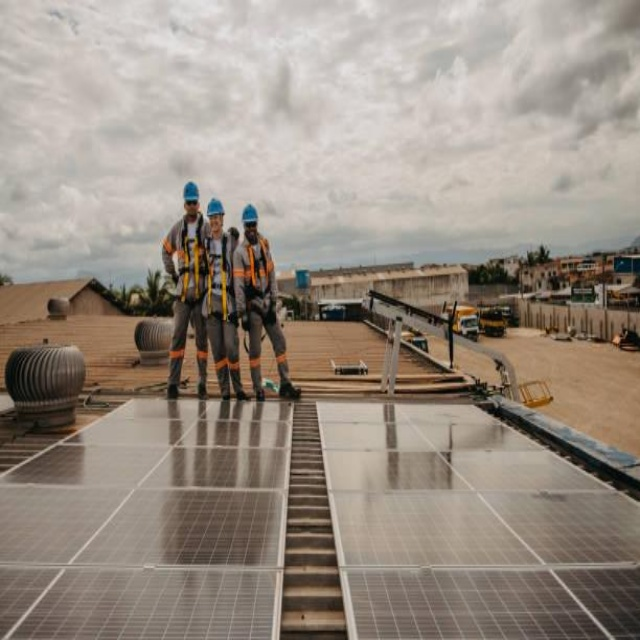Arnes_seguridad: (241, 237, 276, 332), (175, 214, 205, 311), (204, 237, 231, 322)
